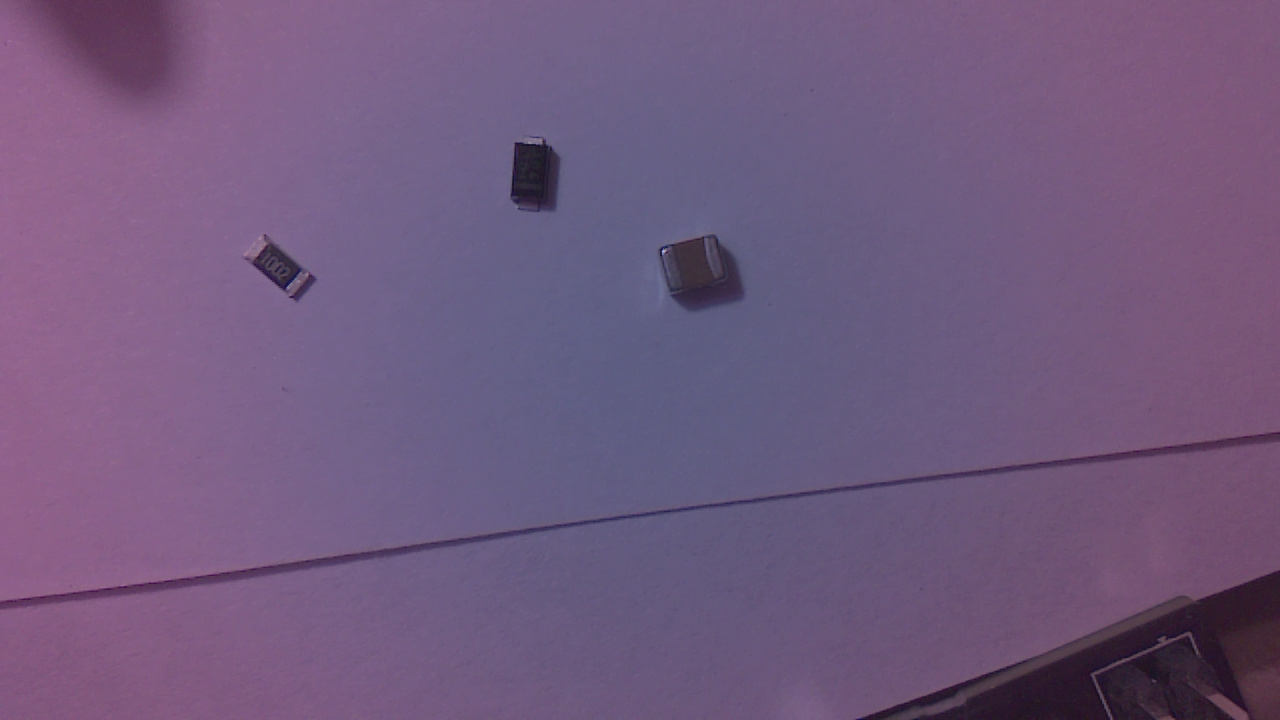Condensator: (665, 242, 736, 304)
Diode: (515, 141, 559, 220)
Resistor: (247, 238, 319, 305)
